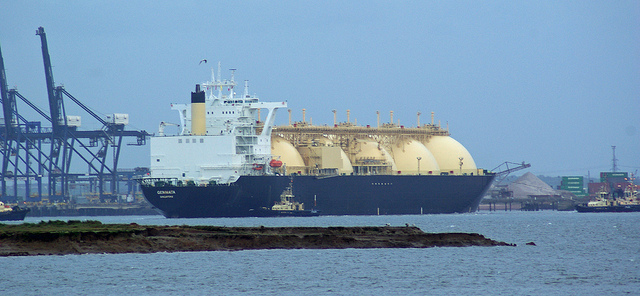LNG_ship: (143, 60, 505, 219)
tug_boat: (248, 176, 318, 217), (568, 177, 633, 217)
